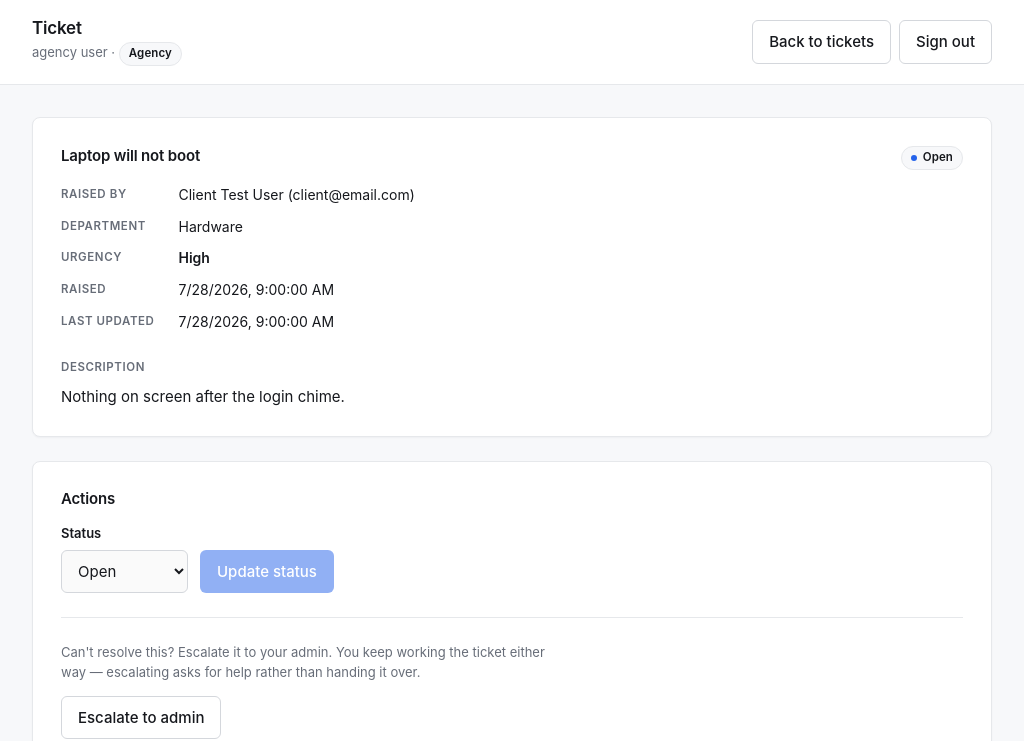
ticket detail › lets an agency move the status
The image size is (1024, 741).
Expected: the heading "Actions" is shown, x1=61 y1=489 x2=115 y2=508
Expected: the button "Update status" is disabled, x1=200 y1=550 x2=334 y2=593
Select "In Progress" in the dropdown labelled "Status" at (124, 571), box x1=61 y1=550 x2=188 y2=593
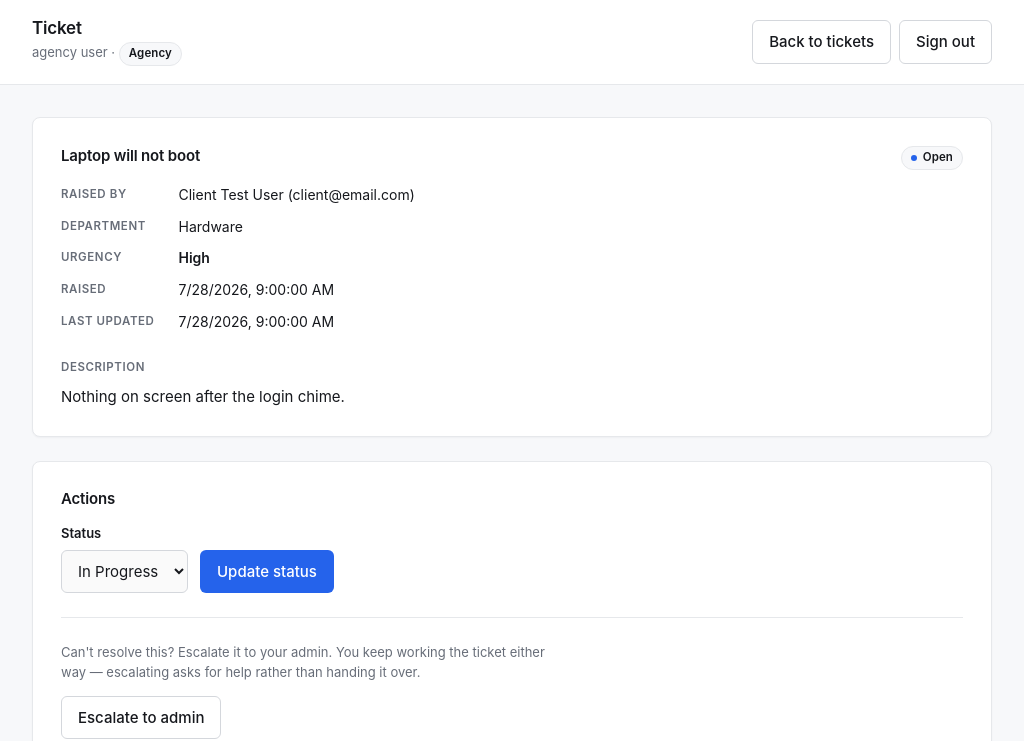
Click the button "Update status" at (267, 571), box x1=200 y1=550 x2=334 y2=593
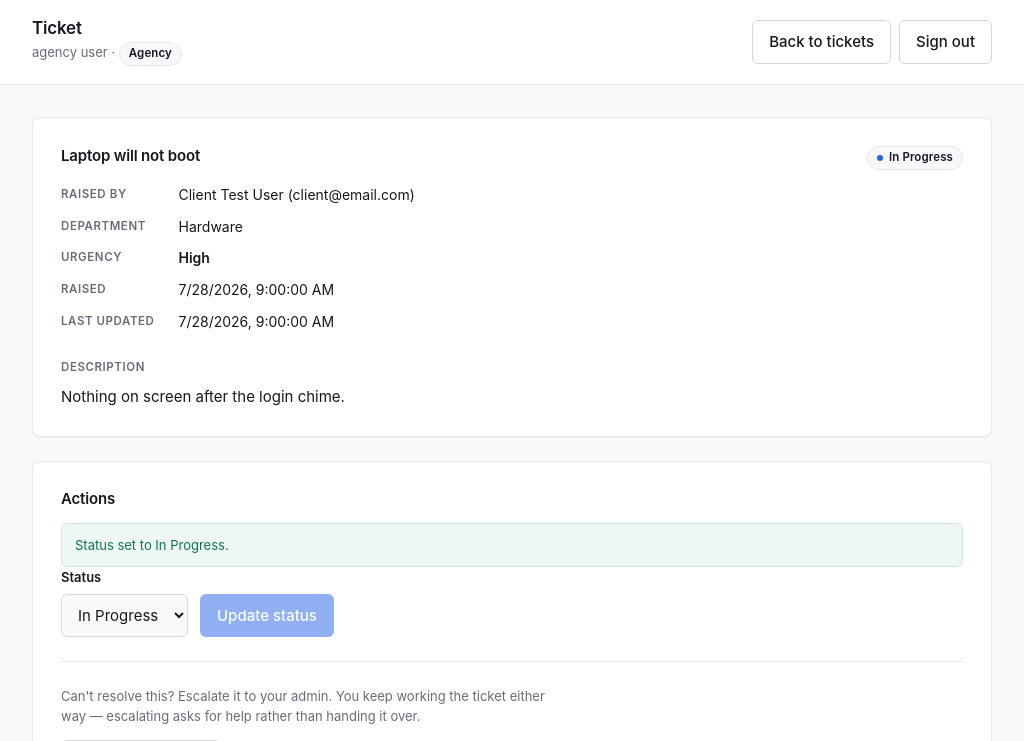
Expected: the message shows "In Progress", x1=75 y1=537 x2=229 y2=553
